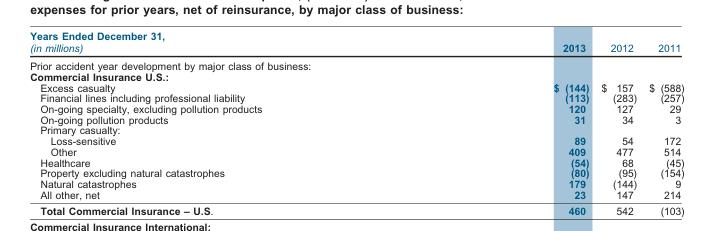table: (29, 28, 683, 199)
table column: (29, 28, 407, 199), (407, 28, 594, 199), (594, 28, 642, 199), (642, 28, 683, 199)
table column header: (29, 28, 683, 56)
table projected row header: (29, 56, 683, 70), (29, 70, 683, 81), (29, 124, 683, 135)
table row: (29, 28, 683, 56), (29, 56, 683, 70), (29, 70, 683, 81), (29, 81, 683, 92), (29, 102, 683, 113), (29, 113, 683, 124), (29, 124, 683, 135), (29, 145, 683, 156), (29, 156, 683, 167), (29, 177, 683, 188), (29, 188, 683, 199), (29, 92, 683, 102), (29, 135, 683, 145), (29, 167, 683, 177)
